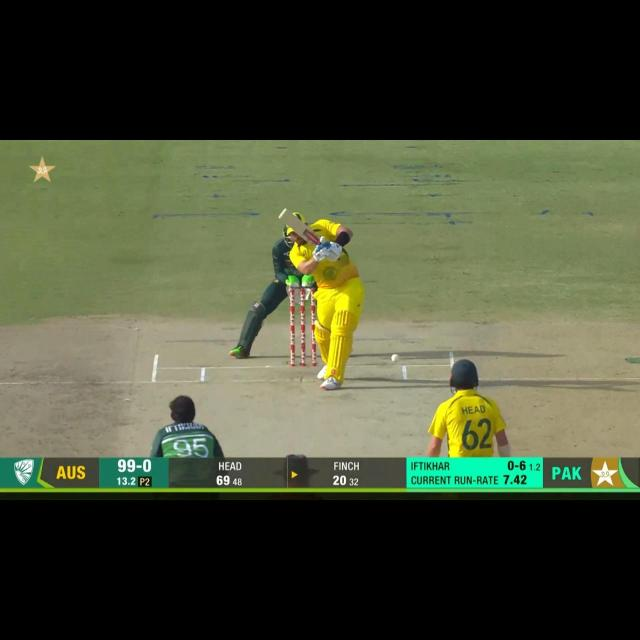bat: (273, 207, 322, 245)
toe: (276, 207, 288, 220)
